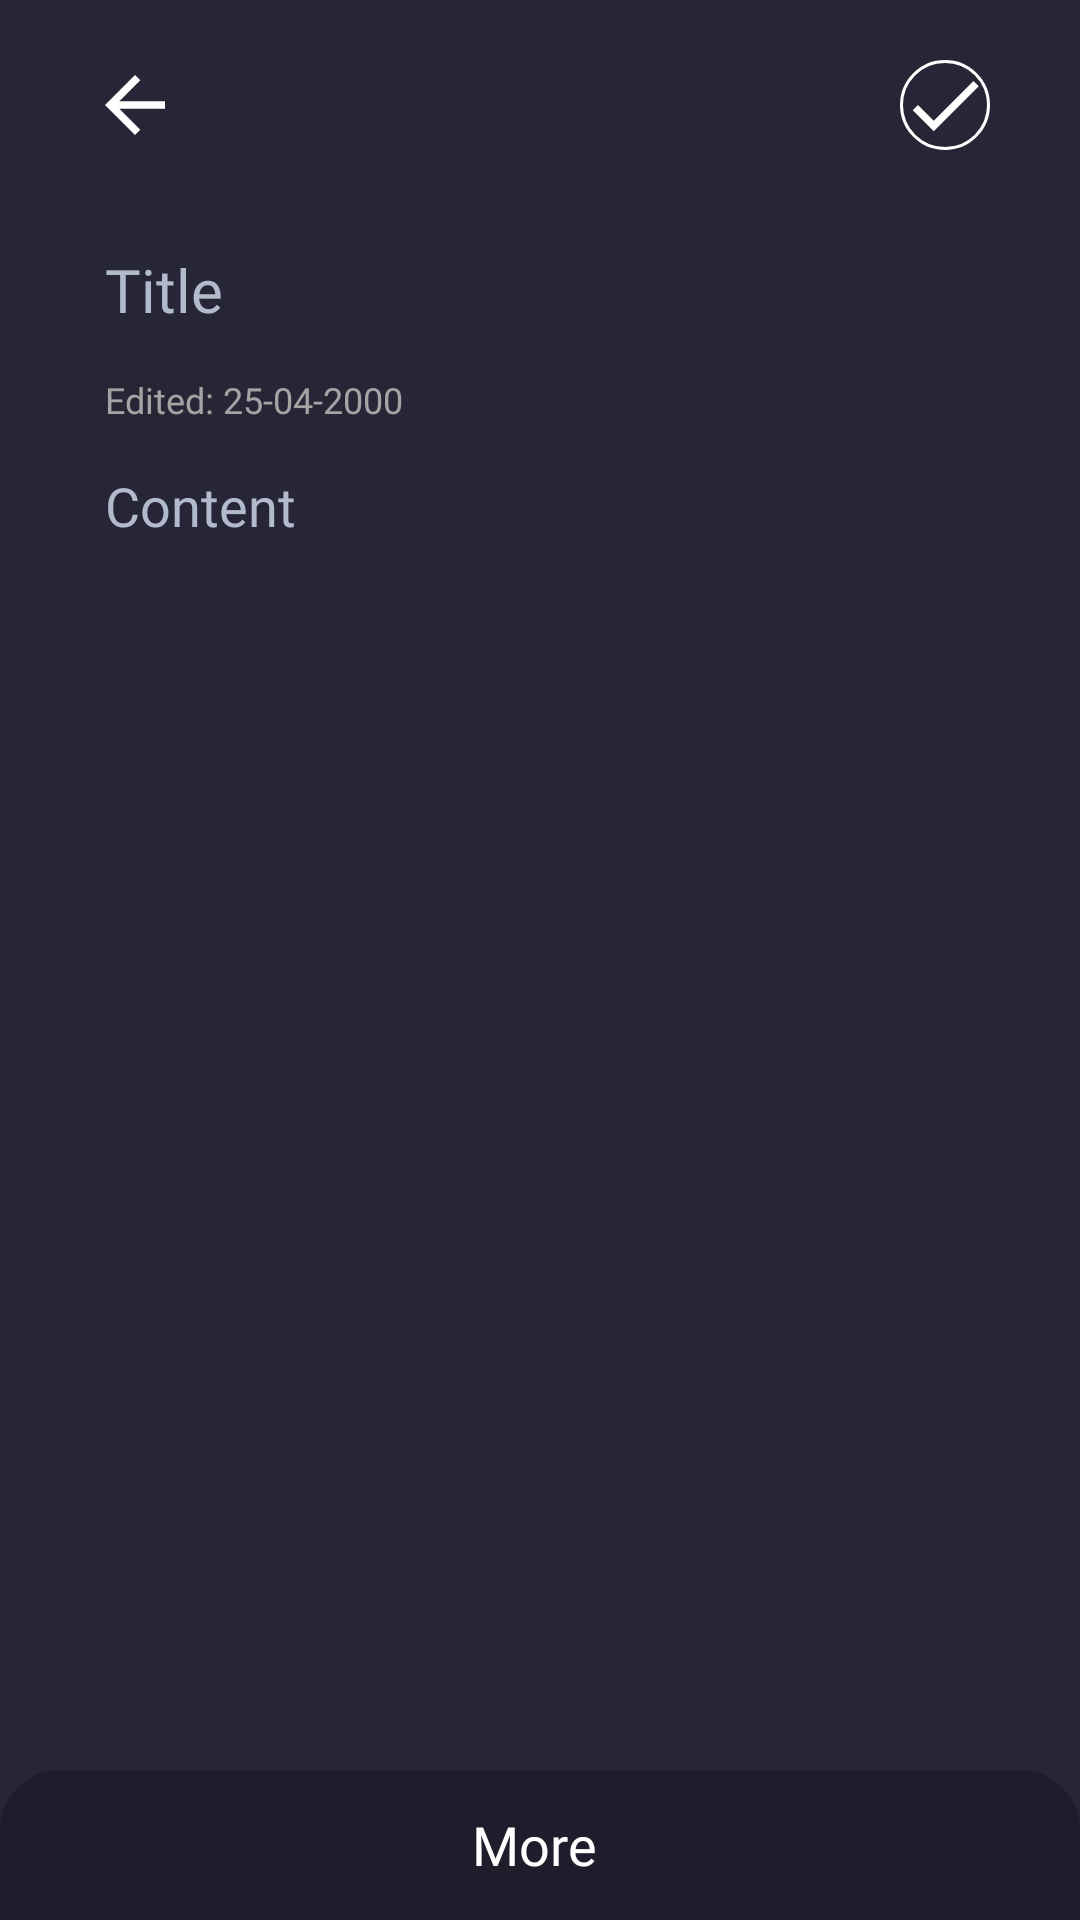

Icon bounding boxes for this 1080x1920 phone screenshot, format (x1, y1, x2, y2):
back: (105, 75, 165, 135)
done: (900, 60, 990, 150)
